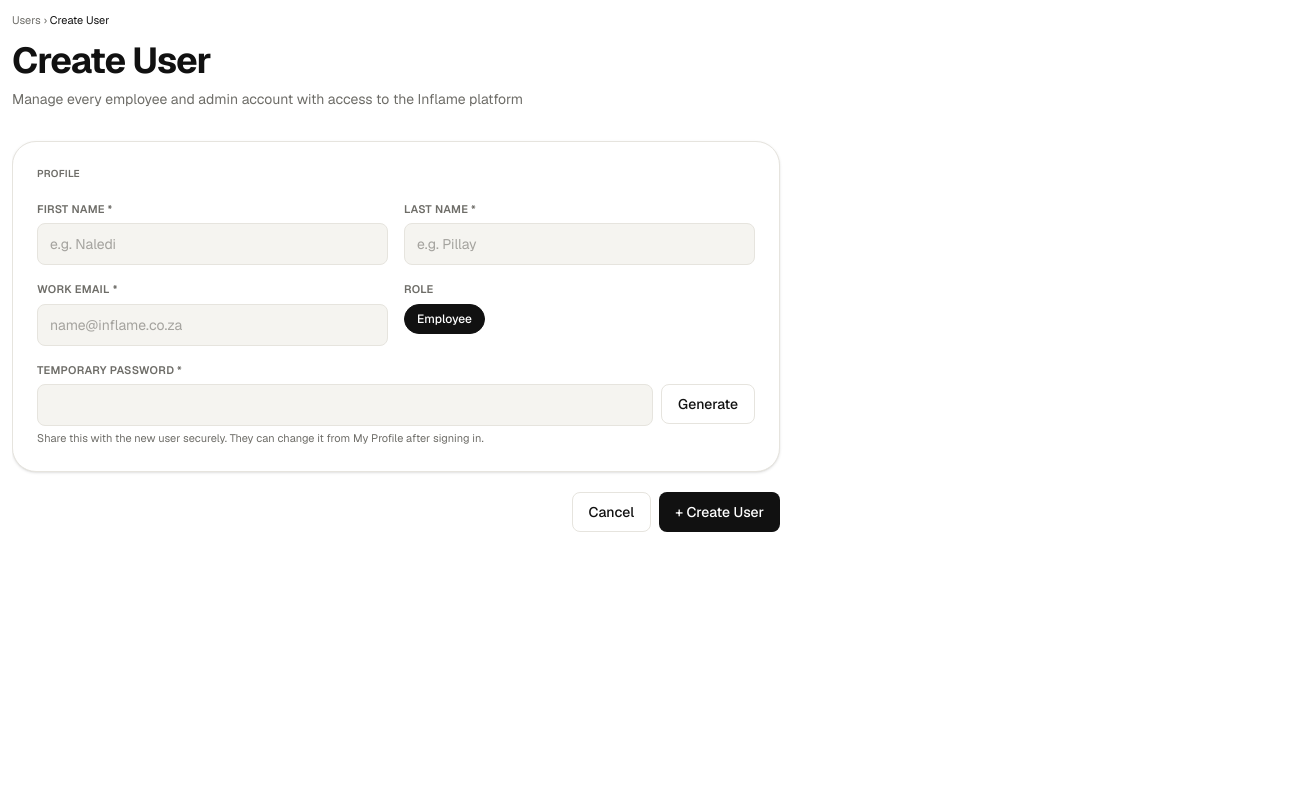
Scenario: validation › rejects a missing last name
Type "X" into the field labelled "First Name *".
click(212, 244); type("X")  # box [37,223,388,265]
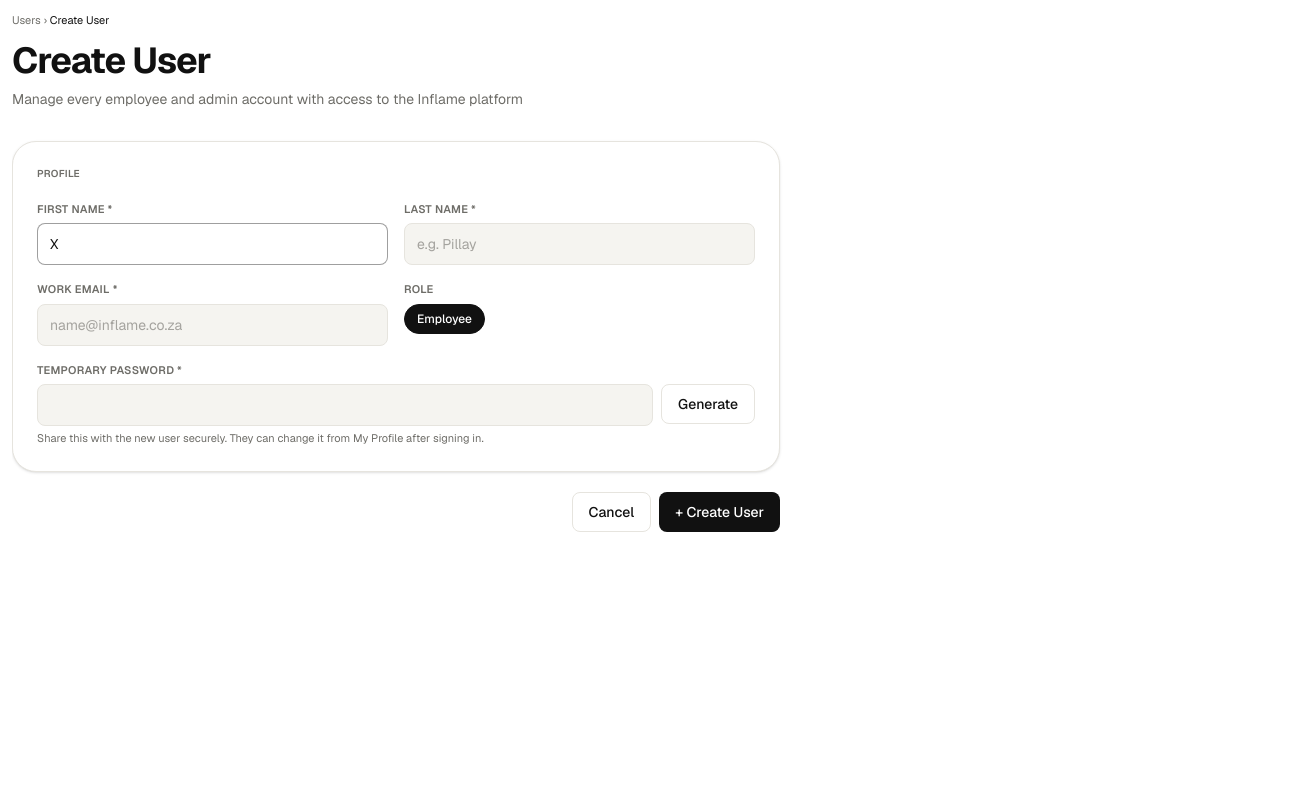
Type "x@y.co" into the field labelled "Work Email *".
click(212, 324); type("x@y.co")  # box [37,304,388,346]
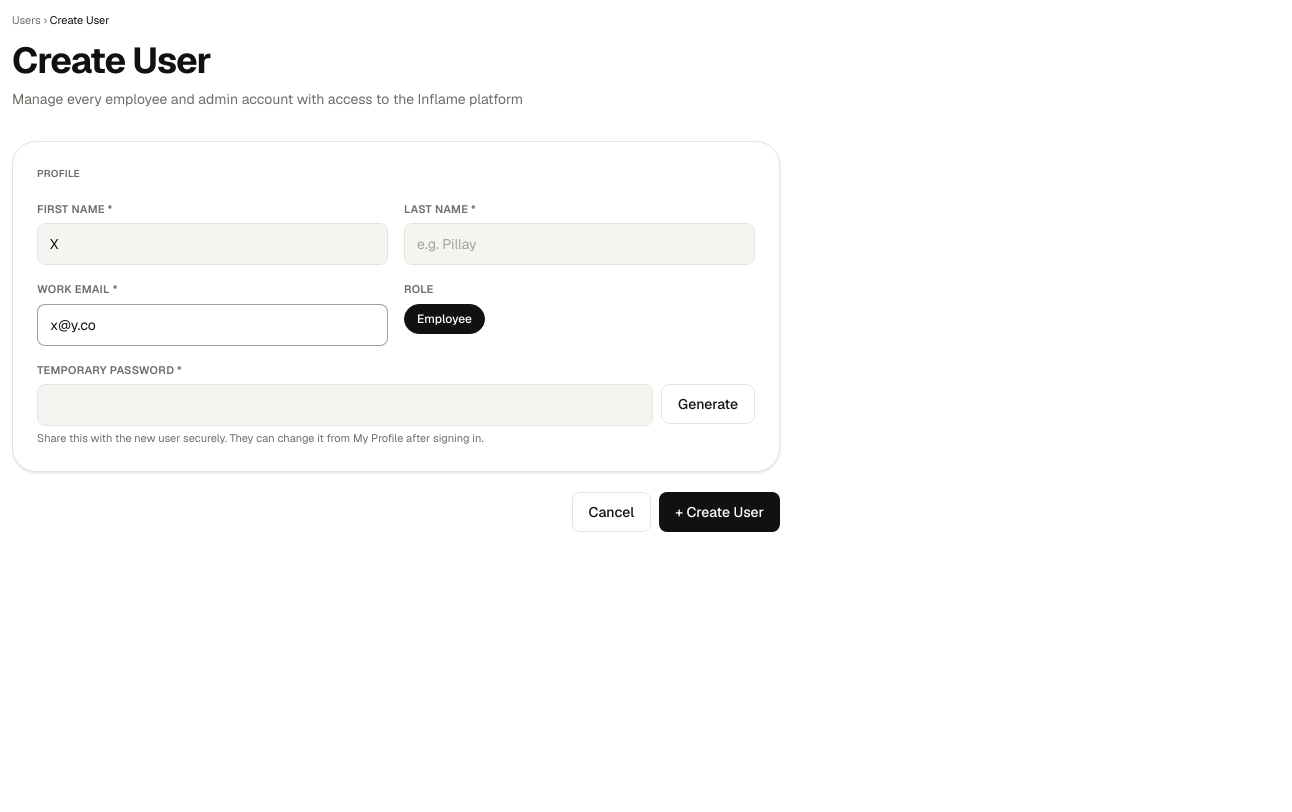
Type "pw12345678" into the field labelled "Temporary Password".
click(345, 405); type("pw12345678")  # box [37,384,653,426]
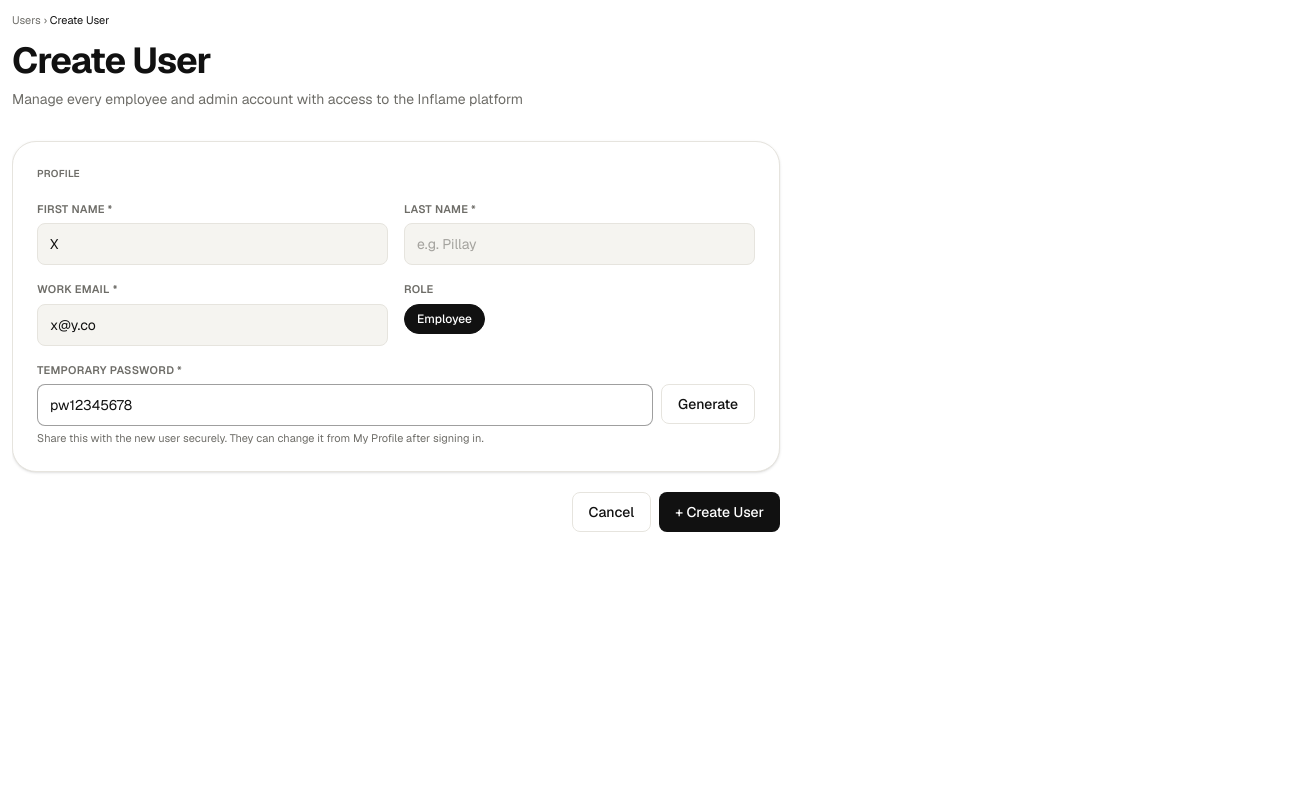
Click the button "+ Create User".
click(720, 512)  # box [659,492,780,532]
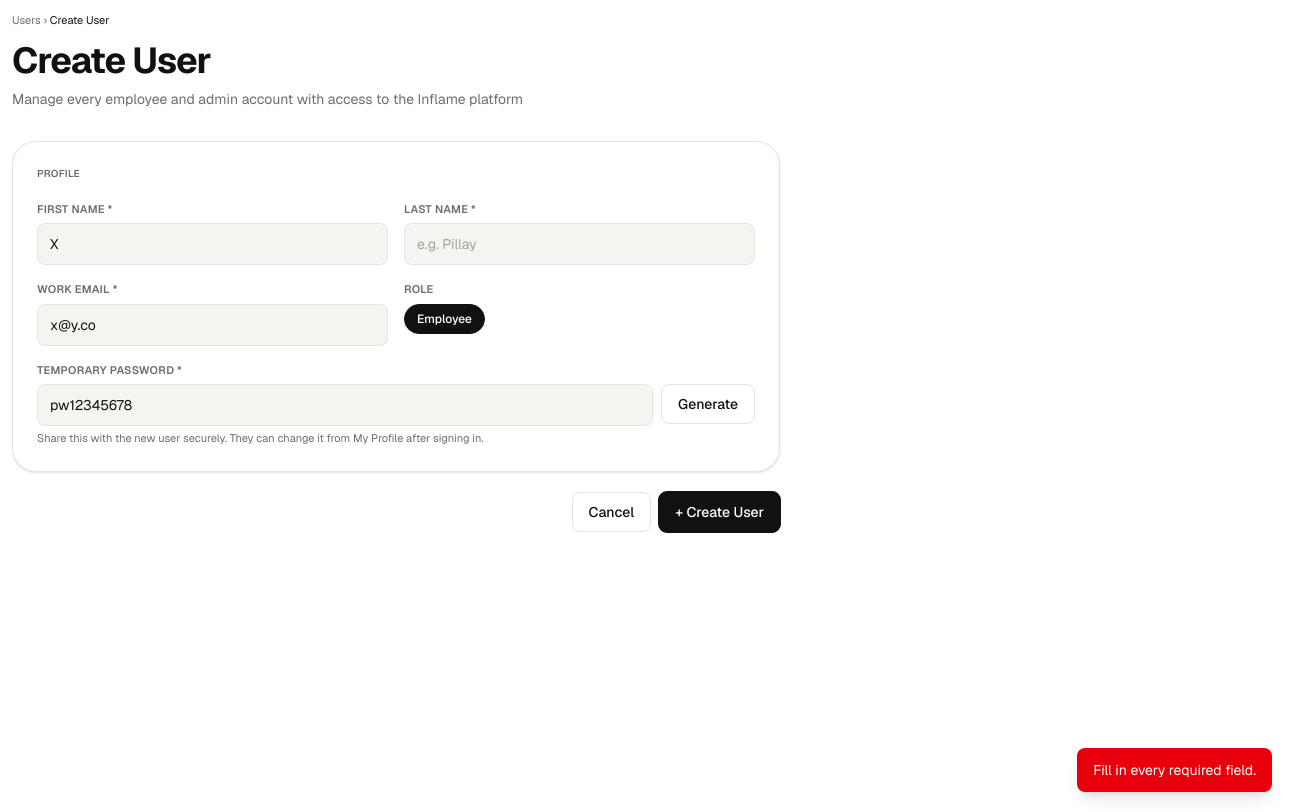
Check: the text "Fill in every required field." is shown, box [1077,748,1272,792]
